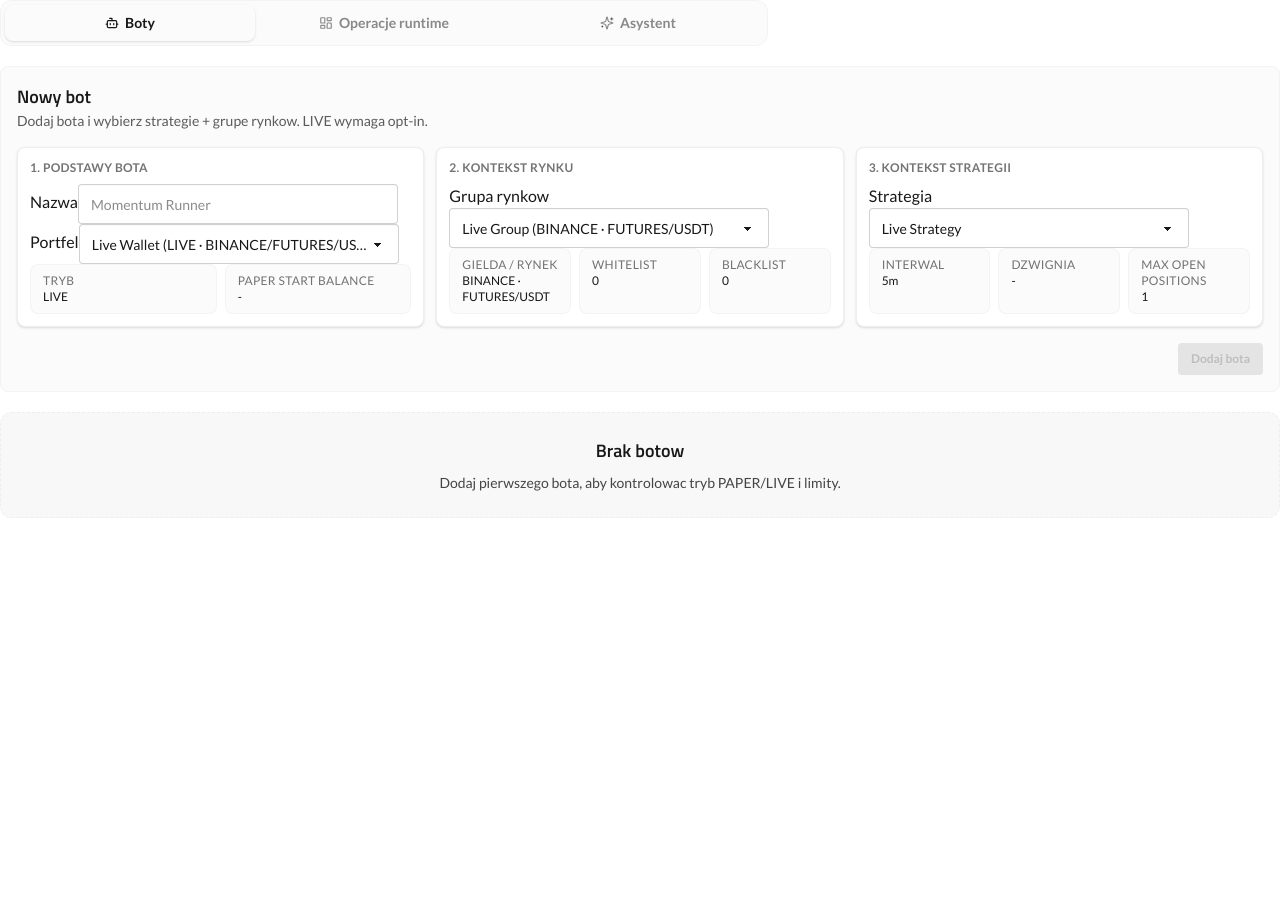
BotsManagement › requires confirmation before creating LIVE bot
Expected: the dropdown labelled "Strategia" shows "Live Strategy", [869,208,1189,248]
Type "Live Runner" into the field with placeholder "Momentum Runner". click: (238, 204)
box: [78,184,398,224]
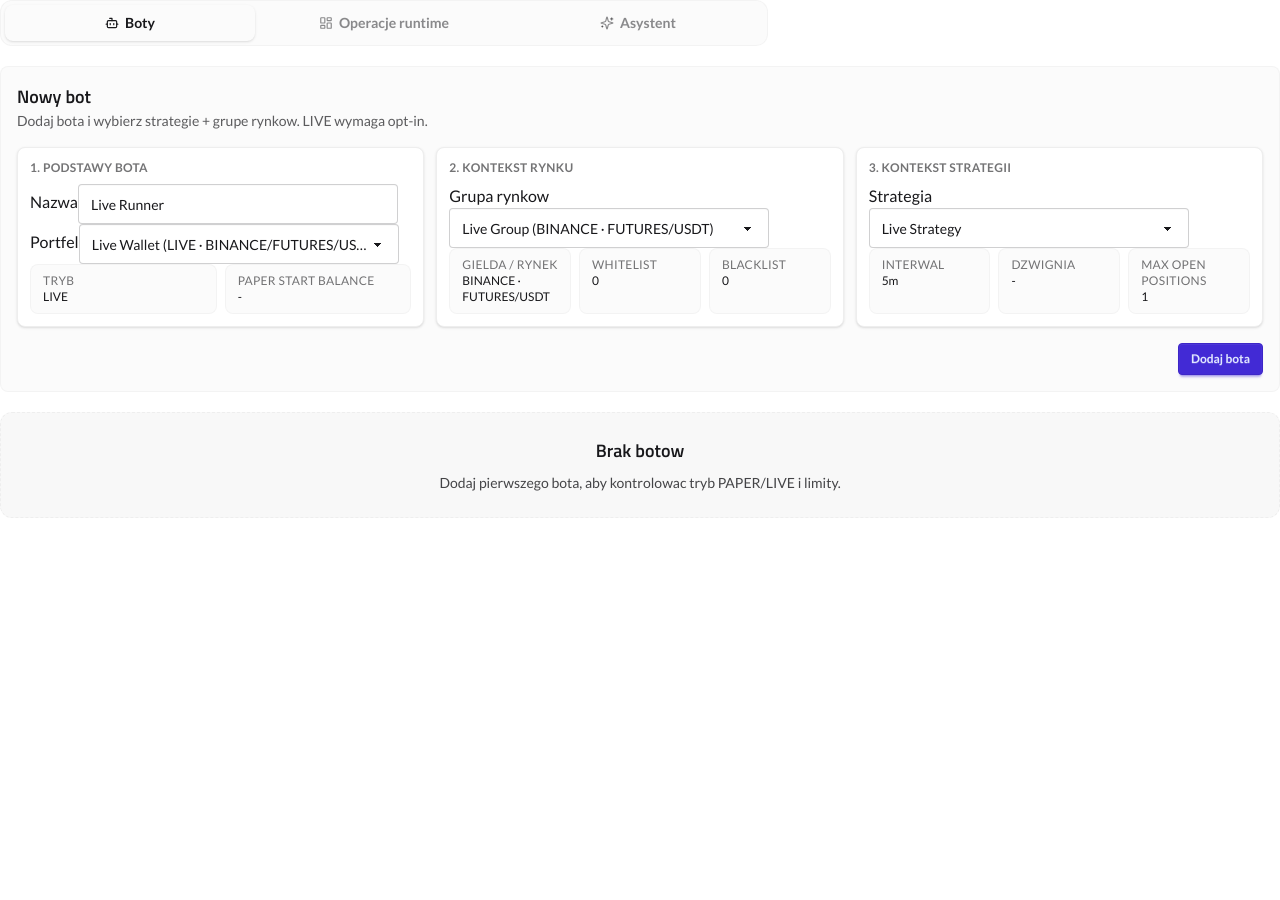
Expected: the dropdown labelled "Portfel" shows "Live Wallet (LIVE · BINANCE/FUTURES/USDT)", [79,224,399,264]
Click the button "Dodaj bota". click: (1220, 359)
box: [1178,343,1263,375]
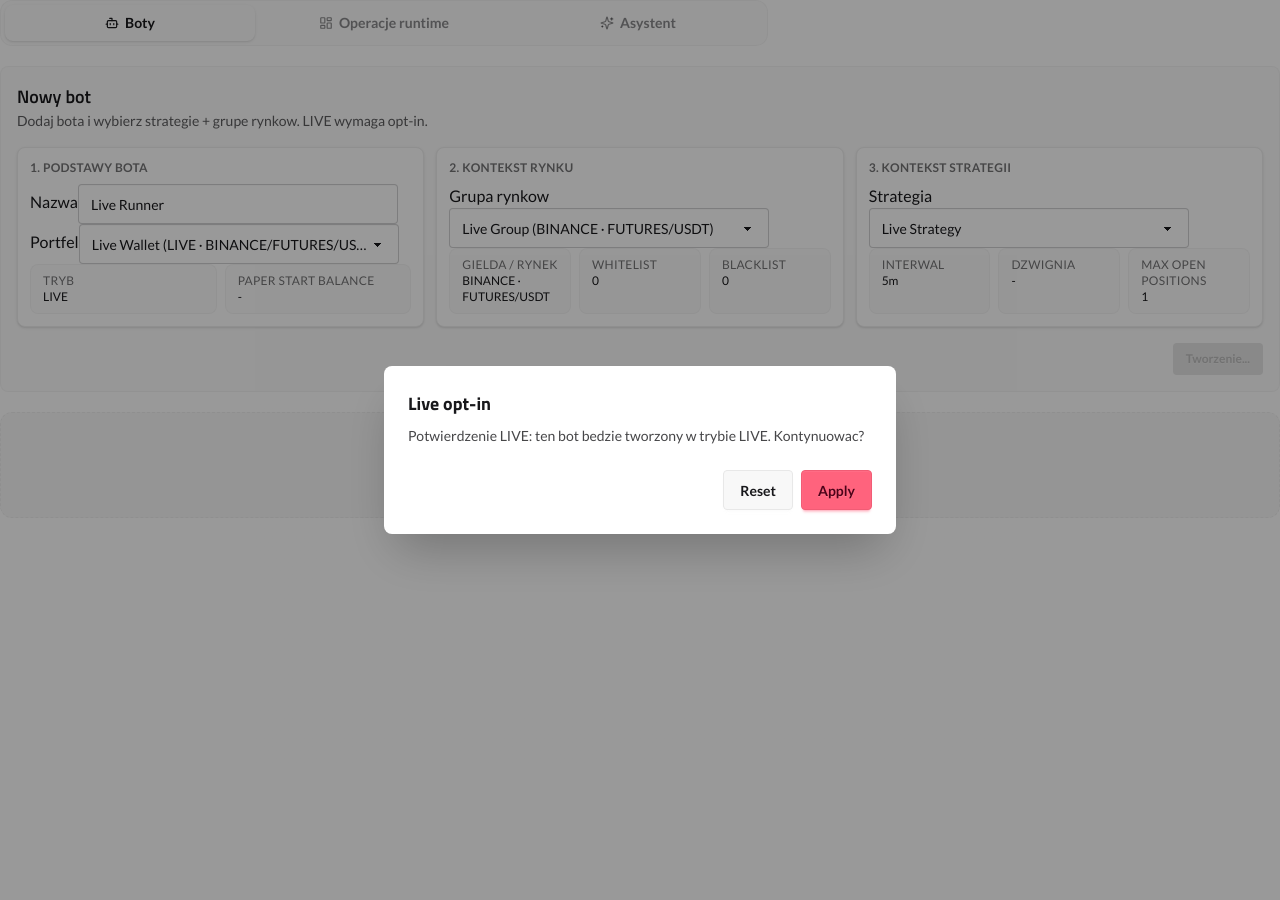
Expected: the text "Potwierdzenie LIVE: ten bot bedzie tworzony w trybie LIVE. Kontynuowac?" is shown, [408,426,872,446]
Click the button "Reset". click: (758, 490)
box: [723,470,793,510]
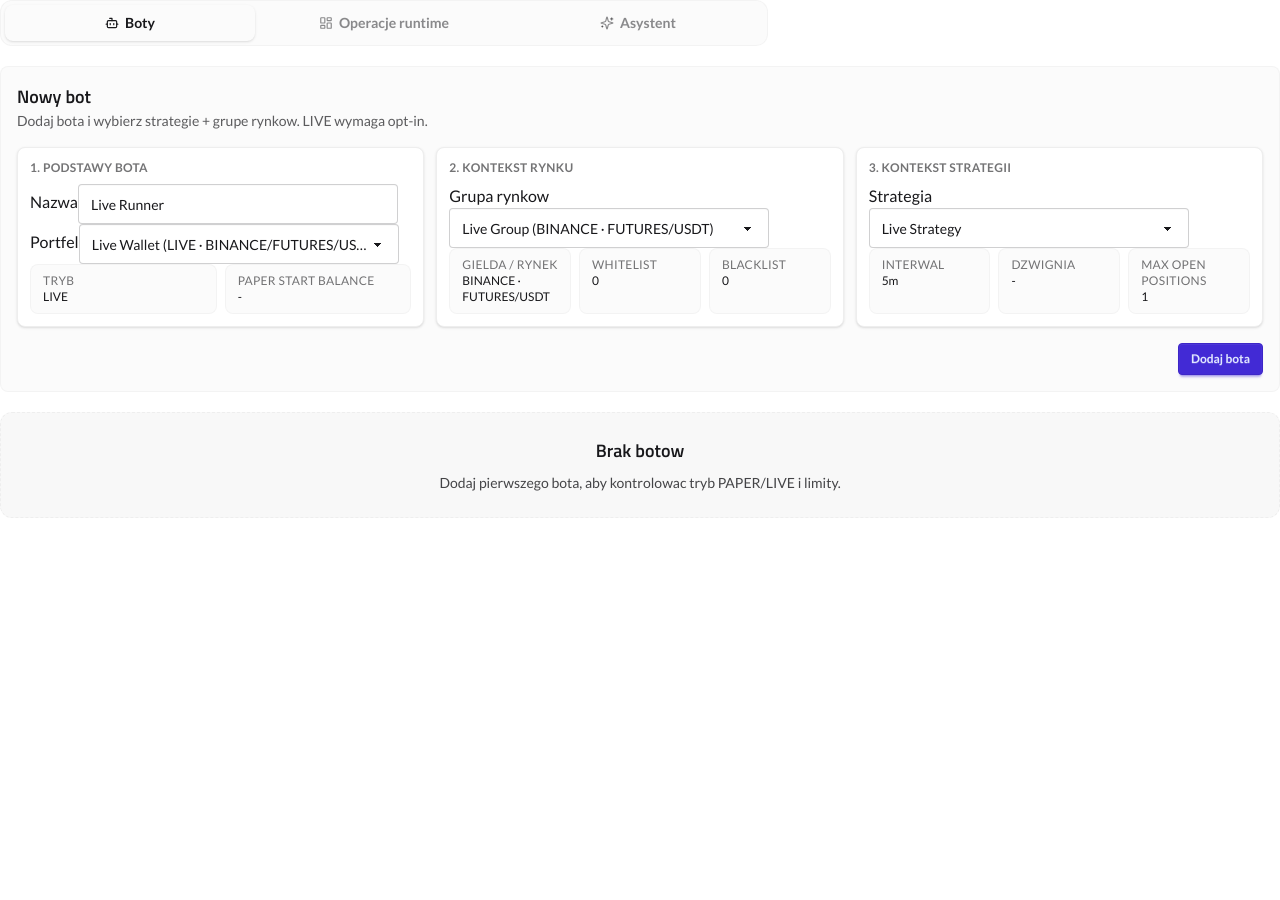
Expected: the text "Potwierdzenie LIVE: ten bot bedzie tworzony w trybie LIVE. Kontynuowac?" is gone
